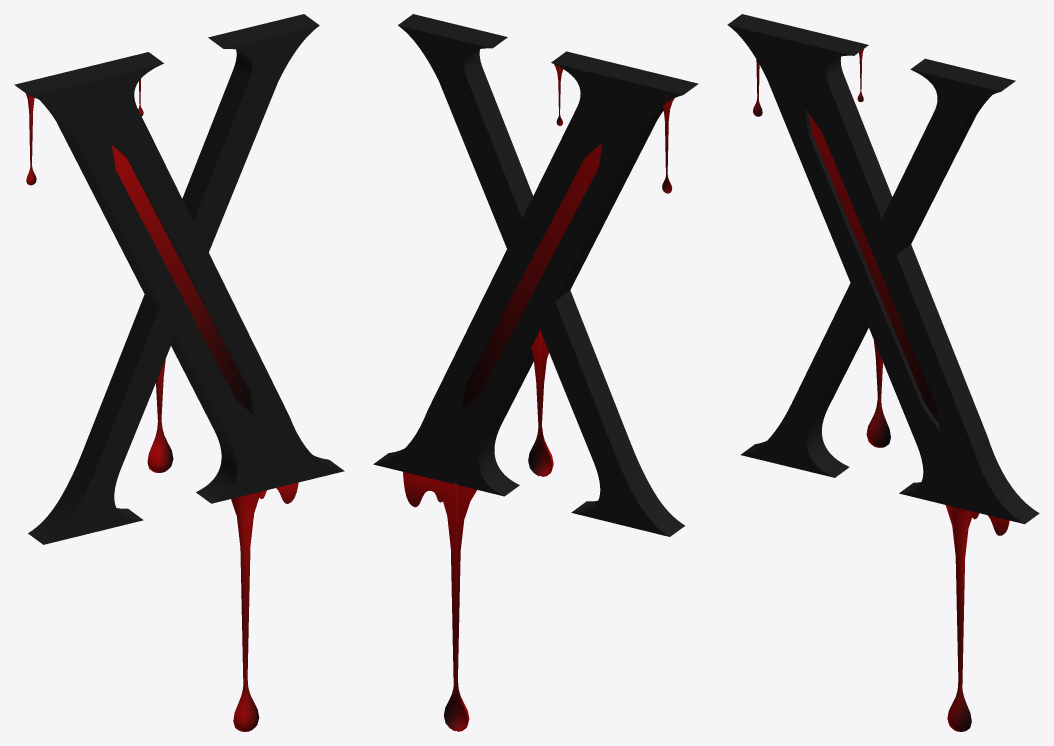
3 views of the same model, side by side, from view 1: azimuth 30°, elevation 25°; view 2: azimuth 150°, elevation 25°; view 3: azimuth 330°, elevation 25° (orthographic). The views are drawn at different scales.
Parts seen in each view (by area): view 1: X, X_Element, Blood_089, Blood_095; view 2: X, X_Element, Blood_089, Blood_095, Blood_088; view 3: X, X_Element, Blood_089, Blood_095.
Boxes of the visible parts, x1=… form: X: x1=14, y1=14, x2=344, y2=544; X_Element: x1=112, y1=145, x2=251, y2=412; Blood_089: x1=231, y1=491, x2=260, y2=731; Blood_095: x1=147, y1=359, x2=173, y2=472; X: x1=373, y1=14, x2=698, y2=536; X_Element: x1=462, y1=142, x2=602, y2=409; Blood_089: x1=442, y1=482, x2=476, y2=731; Blood_095: x1=528, y1=329, x2=553, y2=476; Blood_088: x1=403, y1=472, x2=454, y2=507; X: x1=727, y1=14, x2=1039, y2=524; X_Element: x1=809, y1=114, x2=938, y2=421; Blood_089: x1=945, y1=505, x2=972, y2=731; Blood_095: x1=866, y1=340, x2=890, y2=447.
Bounding box in the file's own units: 57.84 × 123 × 5.05.
2 materials, 1 textured.
